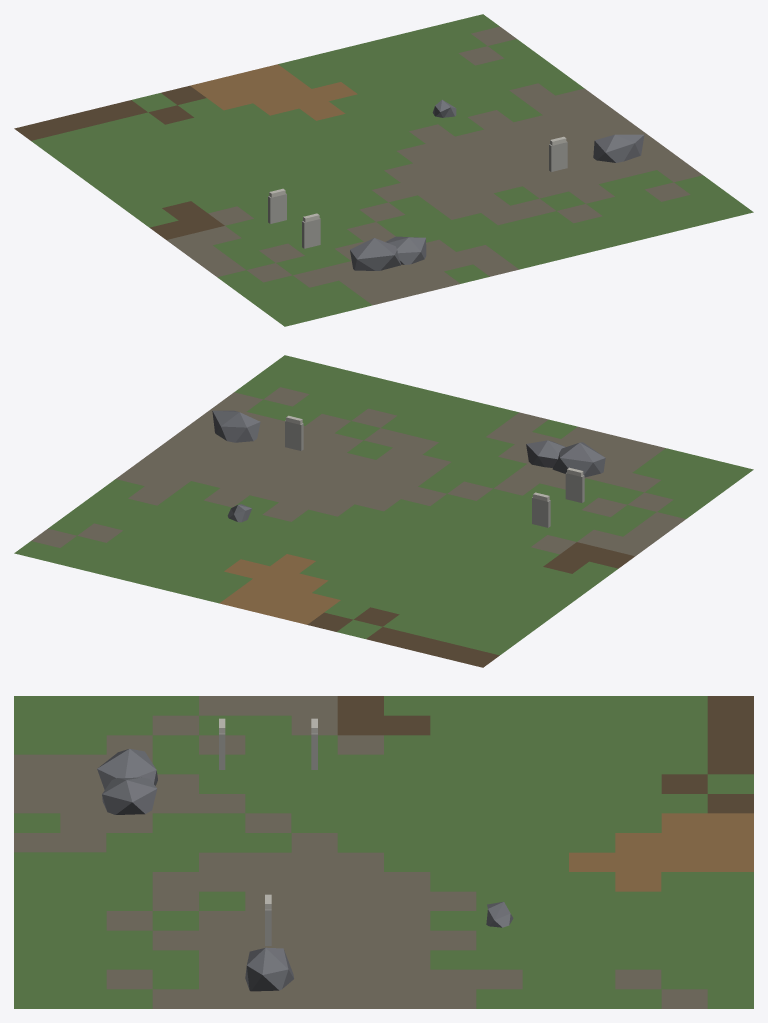
Rendered from chunk_1_21.glb.
3 views of the same model, one above another, from view 1: azimuth 30°, elevation 25°; view 2: azimuth 150°, elevation 25°; view 3: azimuth 270°, elevation 25° (orthographic). The views are drawn at different scales.
Visible parts, largest first — view 1: chunk_1_21; view 2: chunk_1_21; view 3: chunk_1_21.
Part boxes in pixels (<box>): chunk_1_21: <box>14,14,753,326</box>; chunk_1_21: <box>14,355,753,667</box>; chunk_1_21: <box>14,696,753,1008</box>.
Size of the model in its own units: 16 by 1.42 by 16.
